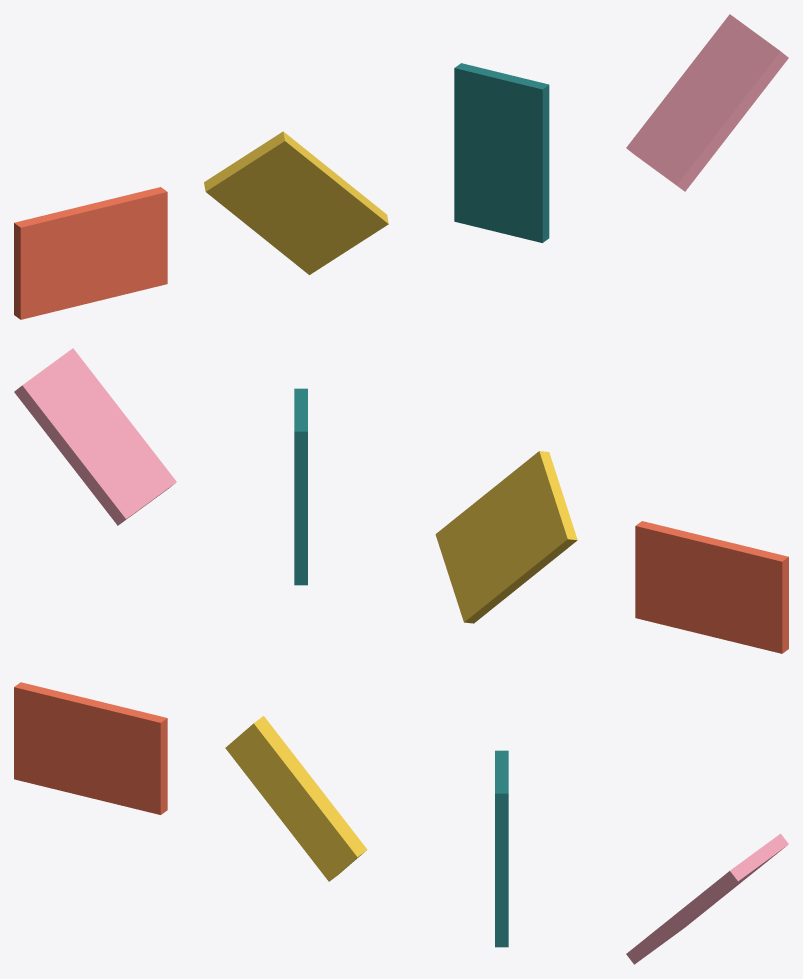
Rendered from fx_confetti.glb.
3 renders of one model, top to bottom at view 1: azimuth 30°, elevation 25°; view 2: azimuth 150°, elevation 25°; view 3: azimuth 330°, elevation 25°, orthographic.
Visible parts, largest first — view 1: SM_FxConfetti; view 2: SM_FxConfetti; view 3: SM_FxConfetti.
Part boxes in pixels (left/top/right/bottom): SM_FxConfetti: left=14, top=14, right=788, bottom=319; SM_FxConfetti: left=14, top=348, right=788, bottom=653; SM_FxConfetti: left=14, top=682, right=788, bottom=964.
Size of the model in its own units: 0.2541 by 0.0551 by 0.03.
